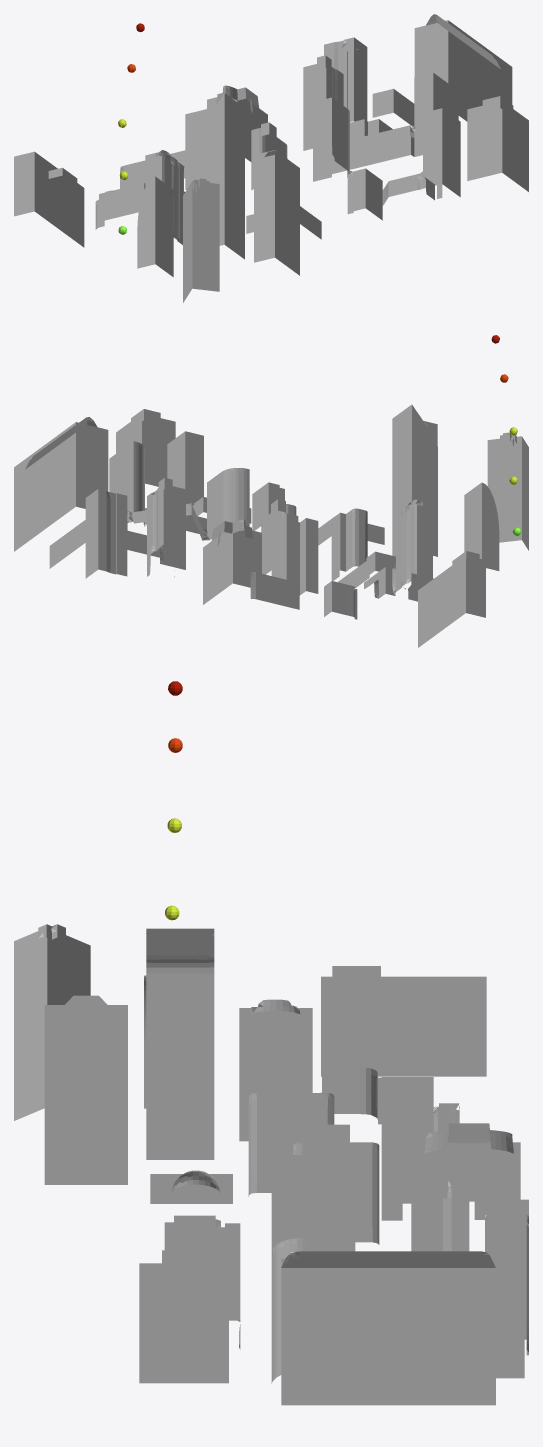
Rendered from wabAnim_ExperimentalScale.glb.
3 renders of one model, top to bottom at view 1: azimuth 30°, elevation 25°; view 2: azimuth 150°, elevation 25°; view 3: azimuth 270°, elevation 25°, orthographic. The views are drawn at different scales.
Parts seen in each view (by area): view 1: Renderer Node; view 2: Renderer Node; view 3: Renderer Node.
Boxes of the visible parts, bbox=[...] form: Renderer Node: bbox=[14, 14, 528, 302]; Renderer Node: bbox=[14, 335, 528, 647]; Renderer Node: bbox=[14, 681, 528, 1405].
Size of the model in its own units: 0.5282 by 0.292 by 0.3229.
2 materials, 1 textured.
